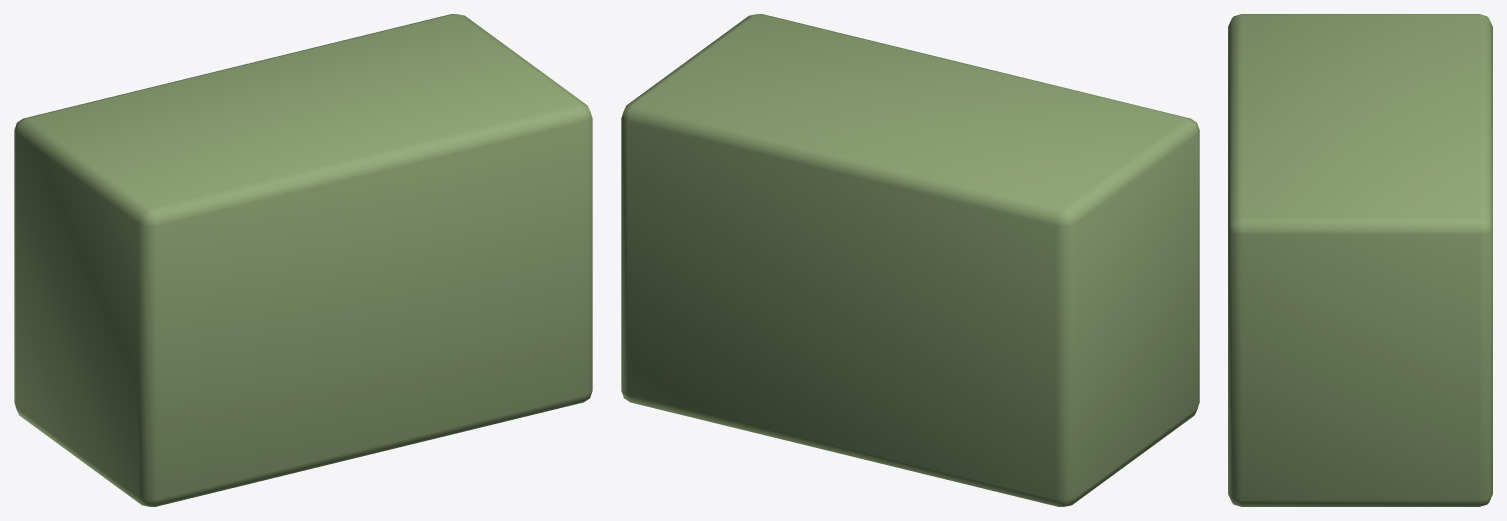
The model's file is display_promo_basket.glb.
3 views of the same model, side by side, from view 1: azimuth 30°, elevation 25°; view 2: azimuth 150°, elevation 25°; view 3: azimuth 270°, elevation 25° (orthographic). The views are drawn at different scales.
Visible parts, largest first — view 1: Basket; view 2: Basket; view 3: Basket.
Boxes of the visible parts, x1,y1,x2,y2 form: Basket: (14,14,592,506); Basket: (621,14,1199,506); Basket: (1228,14,1492,506).
Bounding box in the file's own units: 1.3 × 0.82 × 0.68.
